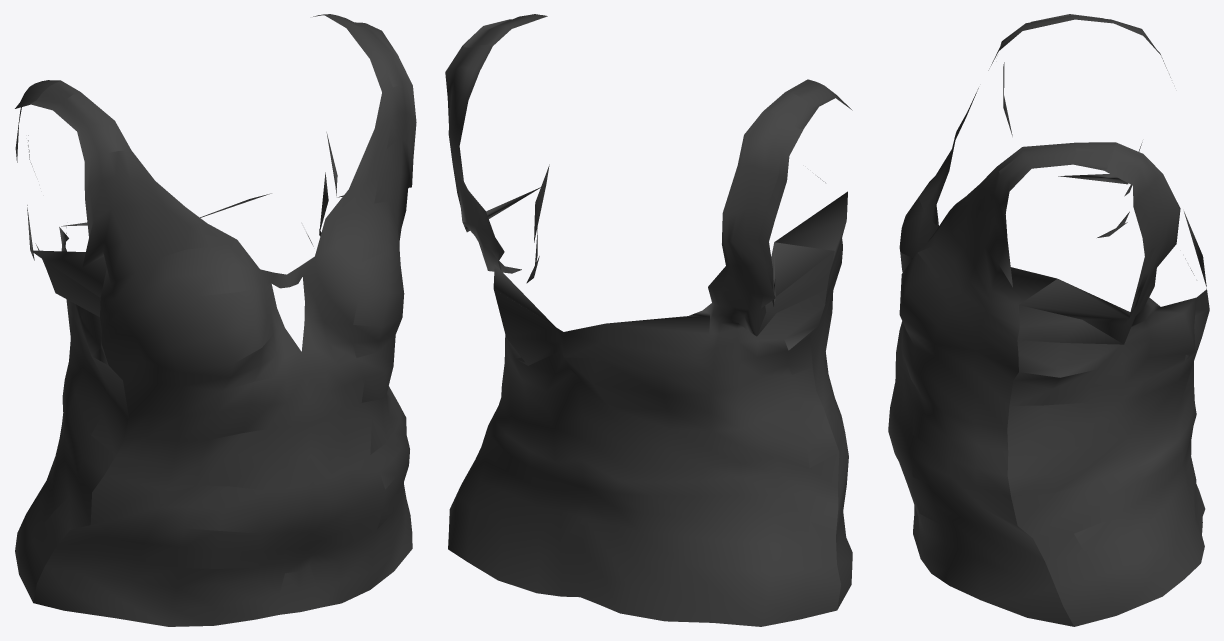
The model's file is cc_tank.glb.
The picture shows the model from 3 angles, left to right: view 1: azimuth 30°, elevation 25°; view 2: azimuth 150°, elevation 25°; view 3: azimuth 270°, elevation 25°; orthographic projection. The views are drawn at different scales.
Parts seen in each view (by area): view 1: geometry_0; view 2: geometry_0; view 3: geometry_0.
Boxes of the visible parts, box(x1,y1,x2,y2) form: geometry_0: box(15, 14, 416, 626); geometry_0: box(445, 14, 852, 626); geometry_0: box(888, 14, 1209, 626).
Bounding box in the file's own units: 0.2185 × 0.2854 × 0.1791.
Materials: 1 (1 with a texture image).
